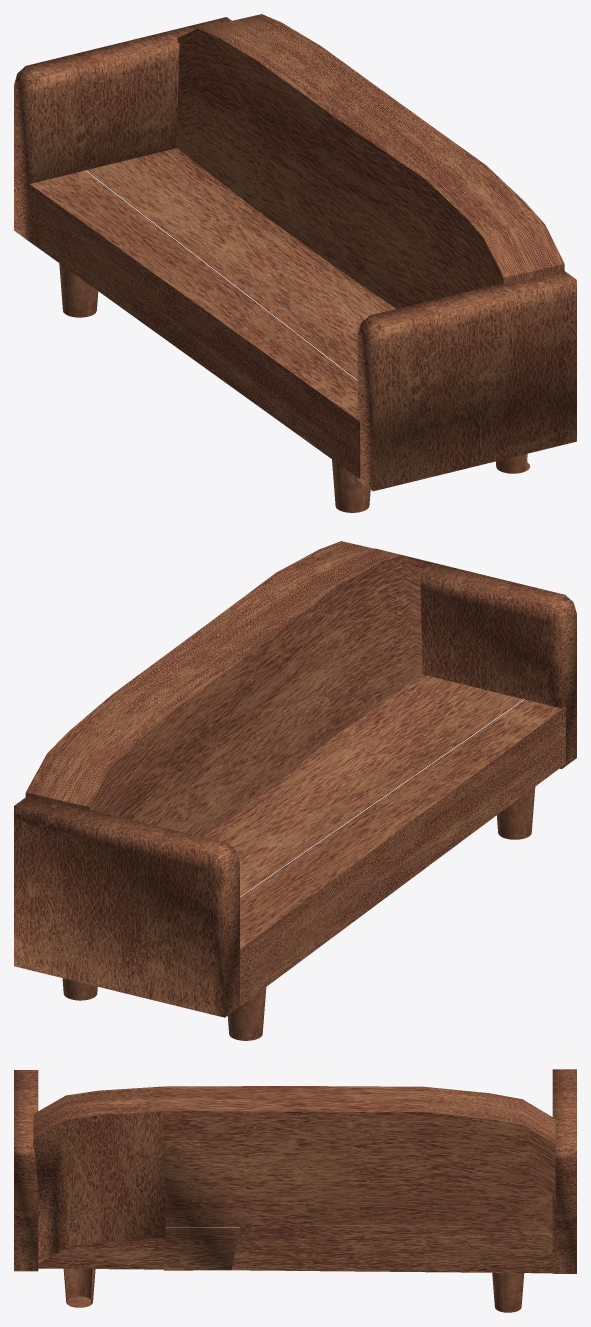
File: couch.fbx
3 renders of one model, top to bottom at view 1: azimuth 30°, elevation 25°; view 2: azimuth 150°, elevation 25°; view 3: azimuth 270°, elevation 25°, orthographic. The views are drawn at different scales.
Visible parts, largest first — view 1: Cylinder.004; view 2: Cylinder.004; view 3: Cylinder.004.
Part boxes in pixels (bbox=[...]): Cylinder.004: bbox=[14, 14, 576, 512]; Cylinder.004: bbox=[14, 541, 576, 1040]; Cylinder.004: bbox=[14, 1069, 576, 1312].
Size of the model in its own units: 411 by 477 by 1187.
2 materials, 2 textured.
